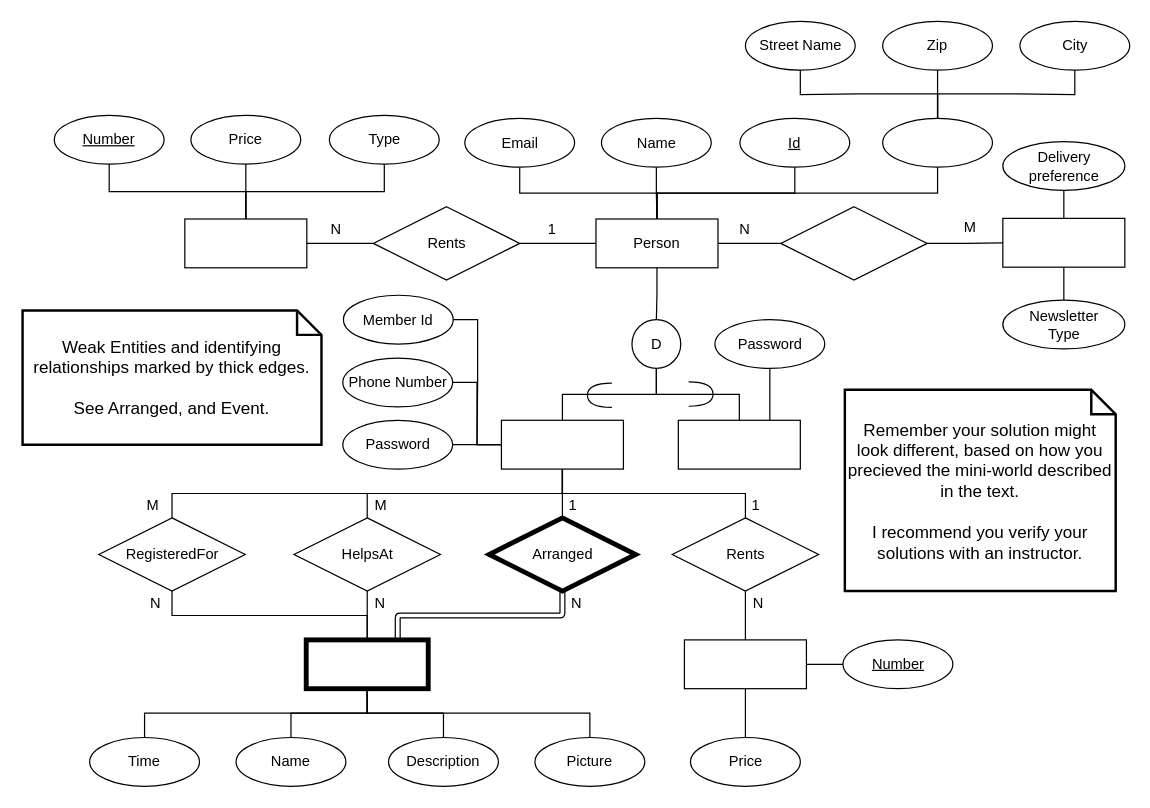
The diagram is 1150 pixels wide and 808 high, and some of its shapes have lost their labels. Here are the shapes that lost their labels. From the top down, the centre of each, then its label:
At pixel 936 142: "Address".
At pixel 245 243: "Rental Boat".
At pixel 853 243: "Subscribes to".
At pixel 1063 242: "Newsletter".
At pixel 561 444: "Member".
At pixel 738 444: "Employee".
At pixel 366 664: "Event".
At pixel 744 664: "Boatspace".
